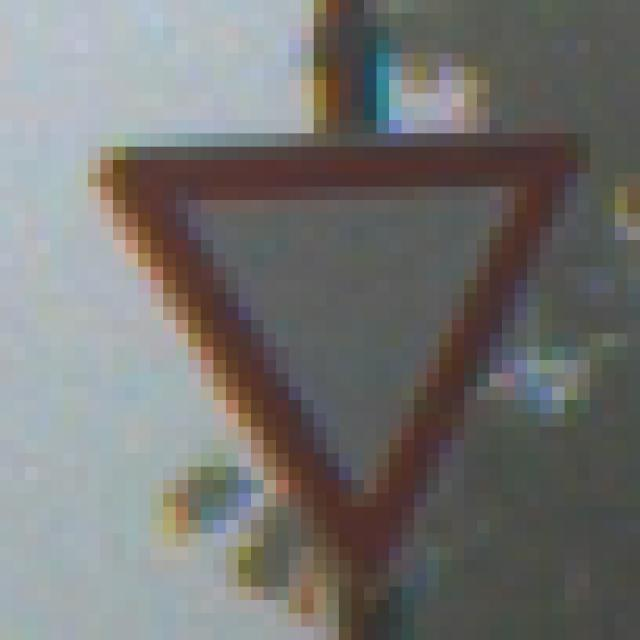Give Way: (76, 81, 566, 561)
